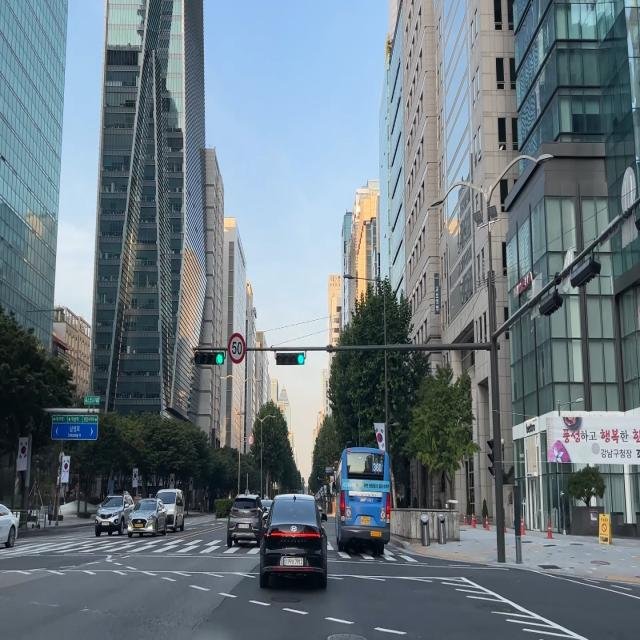Green Light: (216, 351, 223, 366), (296, 352, 304, 365)
